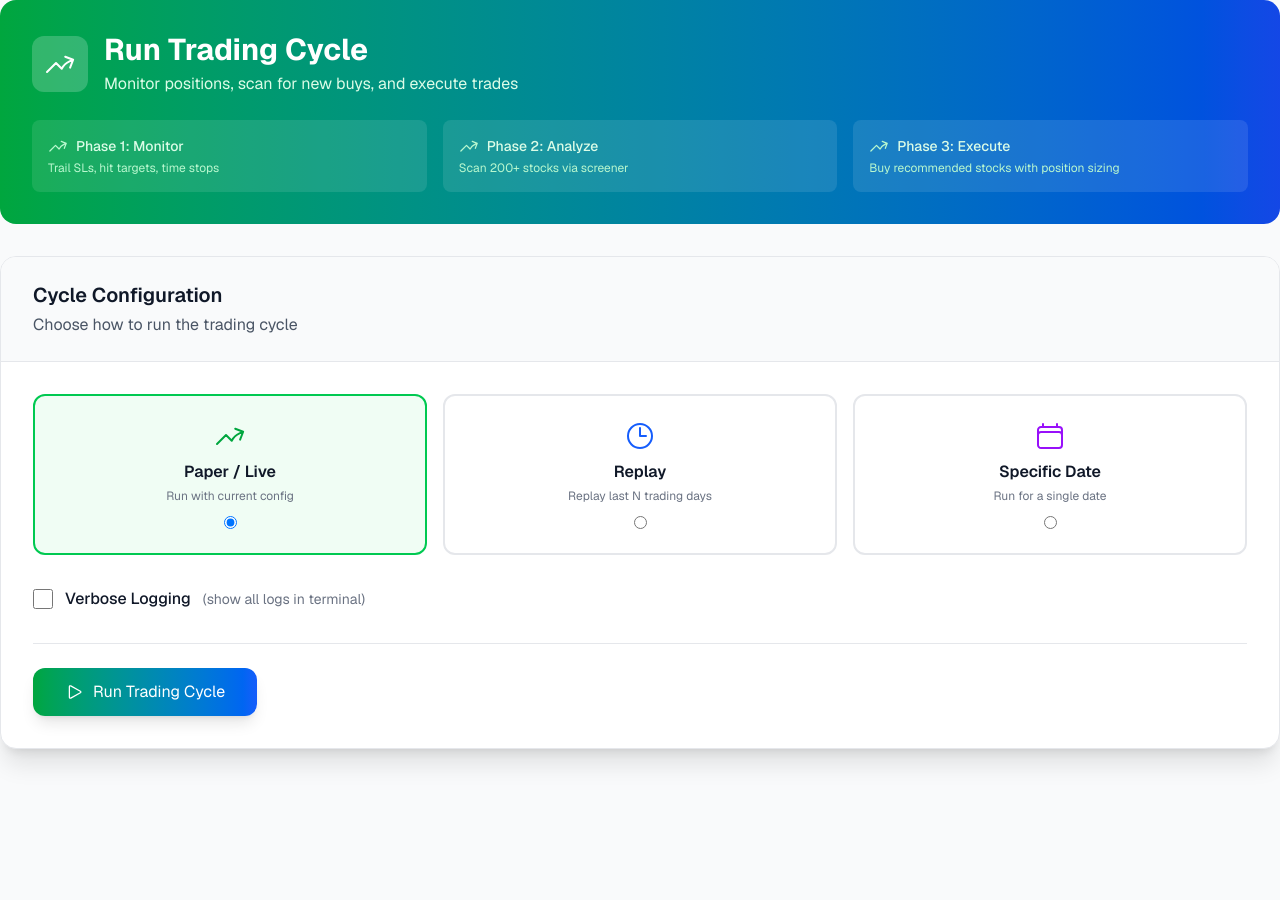
Test case: Trading Cycle Page › shows date input when date mode selected
The width and height of the screenshot is (1280, 900).
Click the text "Specific Date". click: click(1050, 472)
box: [999,460,1101,484]
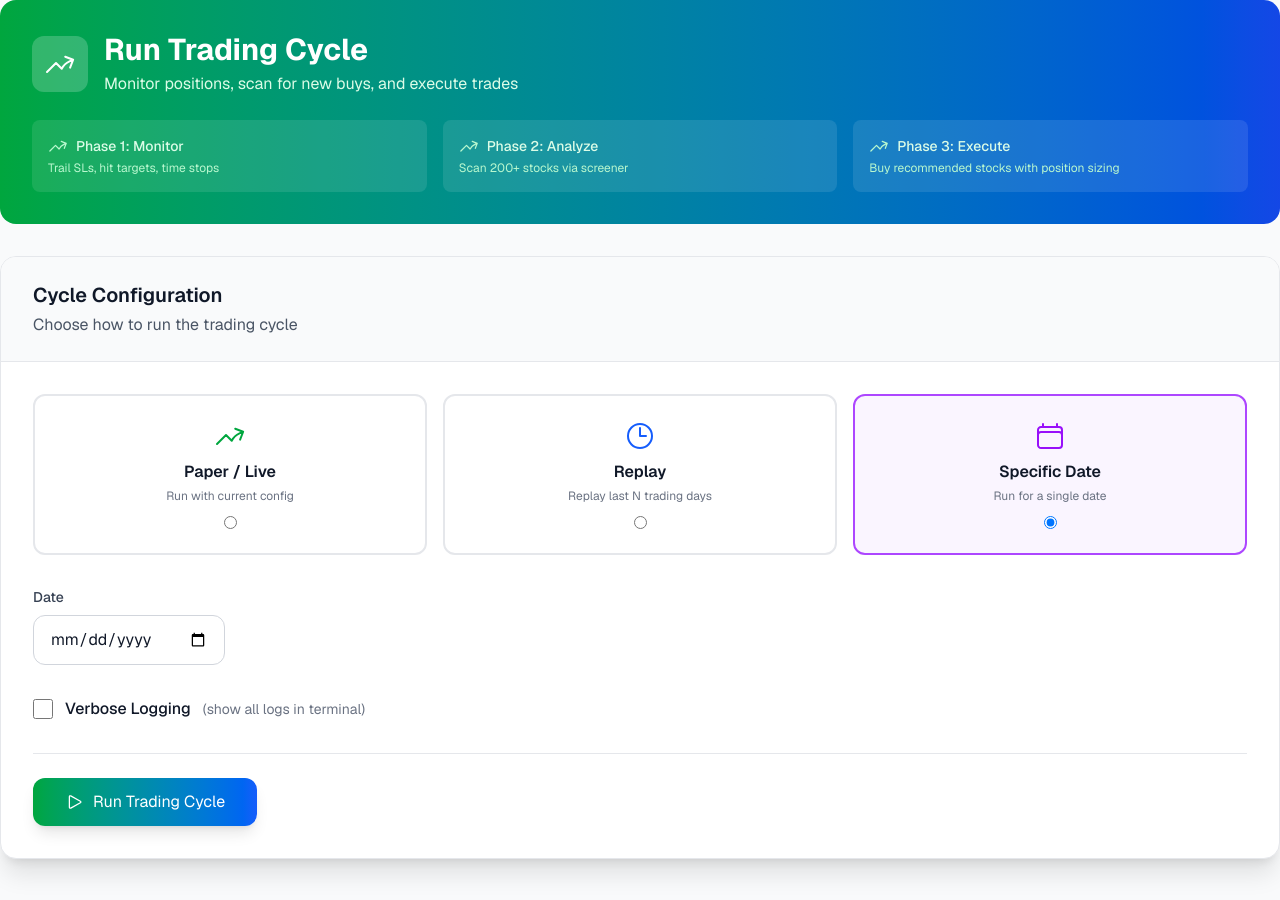
Expected: the date field is shown, [33,615,225,665]
